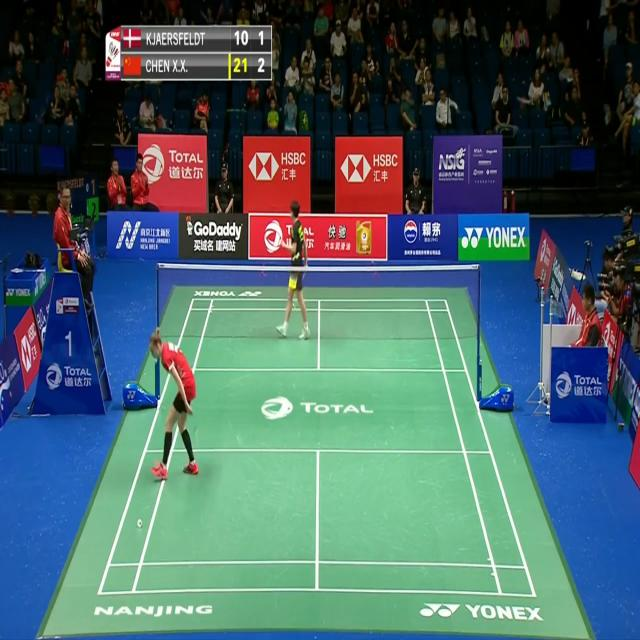Player1: (149, 321, 199, 482)
Player2: (270, 197, 314, 343)
